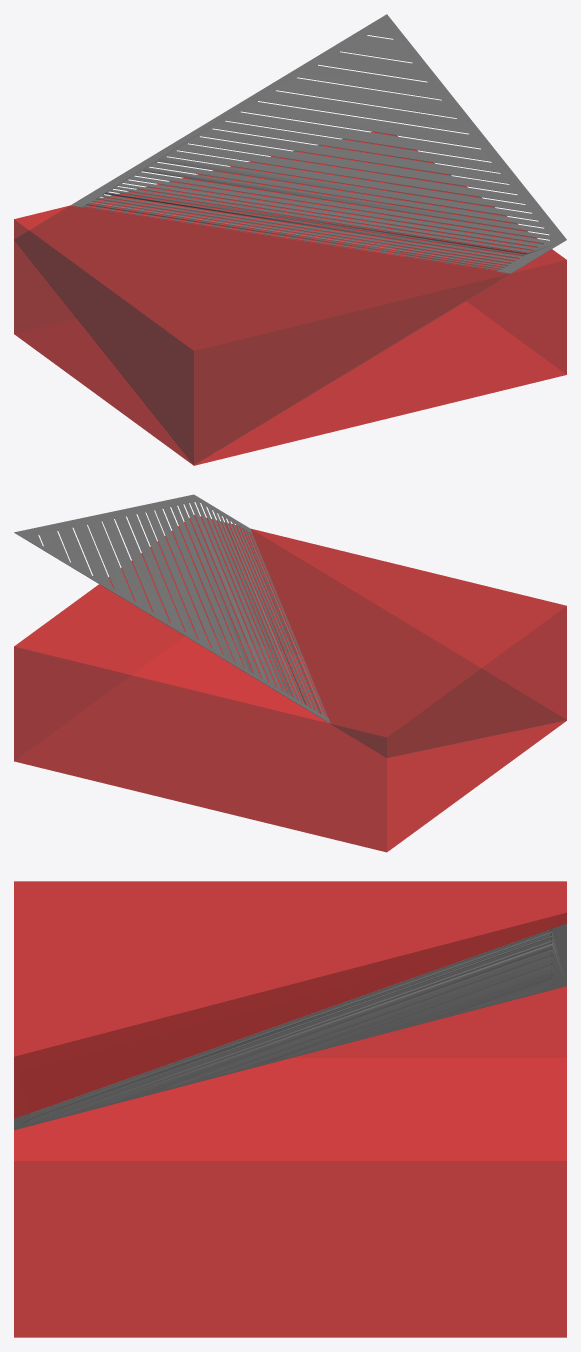
The model's file is project20.glb.
3 views of the same model, one above another, from view 1: azimuth 30°, elevation 25°; view 2: azimuth 150°, elevation 25°; view 3: azimuth 270°, elevation 25° (orthographic). The views are drawn at different scales.
Parts seen in each view (by area): view 1: festék - antracit; view 2: festék - antracit; view 3: festék - antracit.
Part boxes in pixels (left/top/right/bottom): festék - antracit: left=14, top=14, right=566, bottom=465; festék - antracit: left=14, top=494, right=566, bottom=852; festék - antracit: left=14, top=881, right=566, bottom=1337.
Size of the model in its own units: 8.89 by 5.22 by 7.43.
